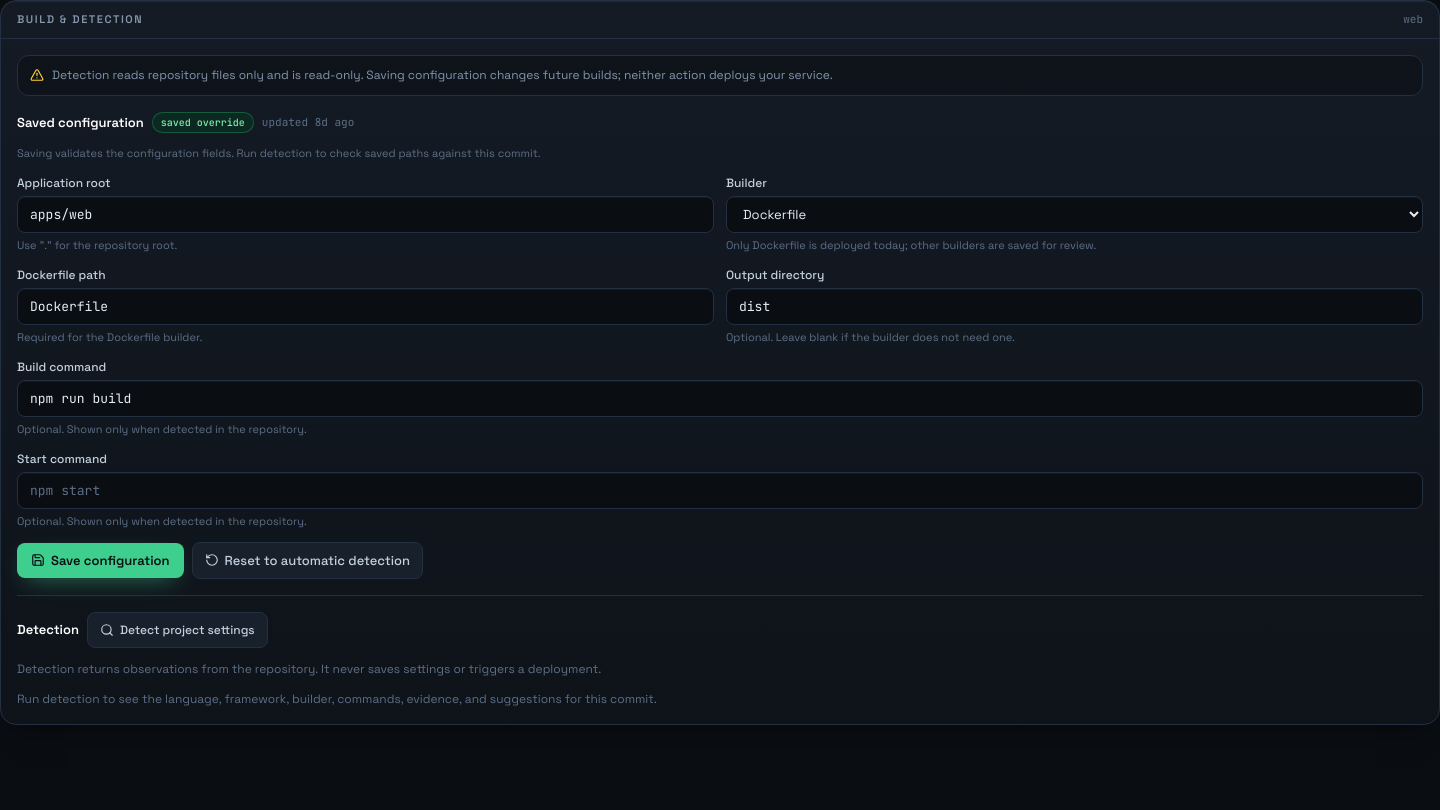
Test: BuildConfigPanel › detection never silently replaces the saved configuration
Expected: the field showing "apps/web" is shown, top-left (17, 196), bottom-right (714, 233)
Step 1. Click the button "Detect project settings" → (177, 630), box top-left (87, 612), bottom-right (268, 648)
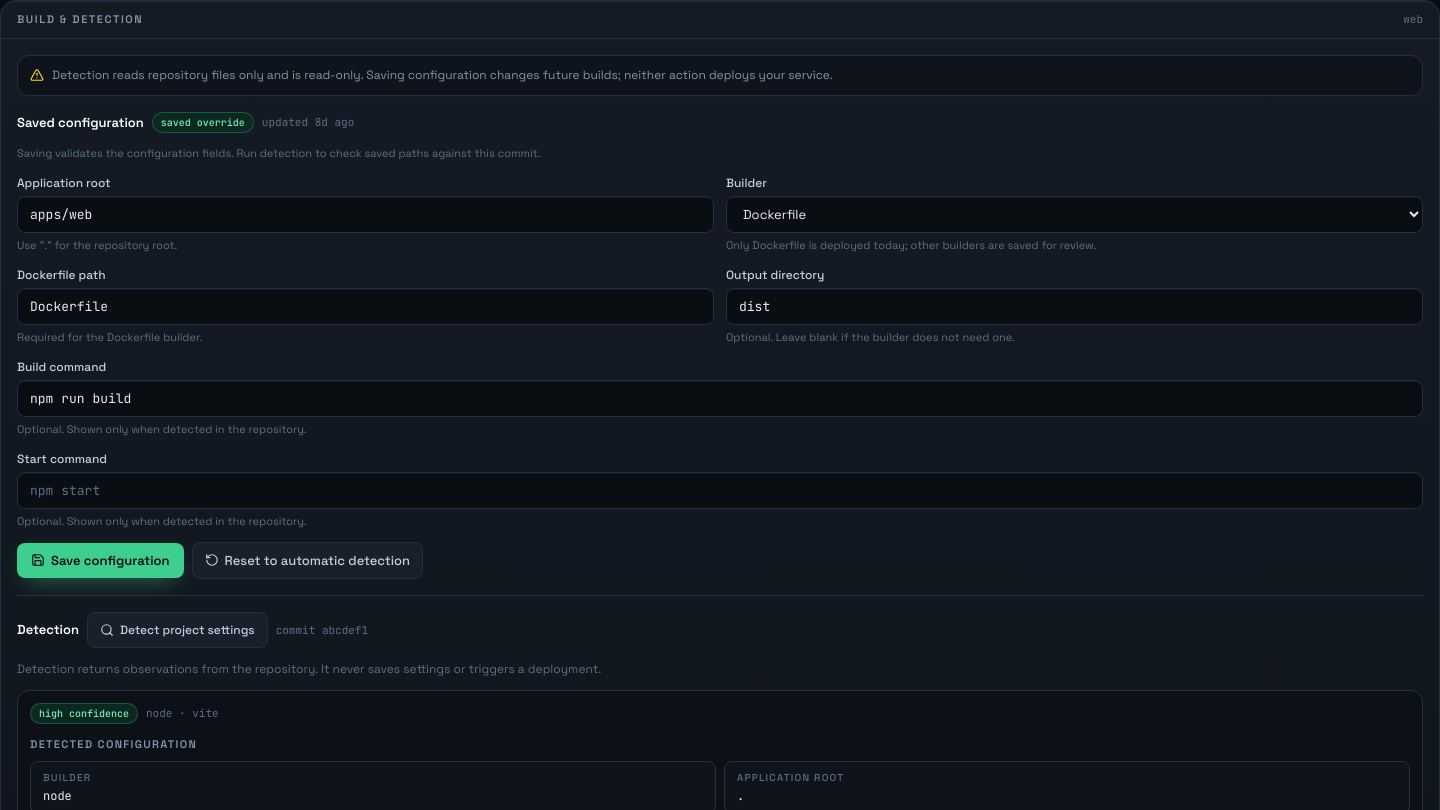
Expected: the field labelled "Application root" holds "apps/web", top-left (17, 196), bottom-right (714, 233)
Expected: the text "high confidence" is shown, top-left (30, 703), bottom-right (138, 724)
